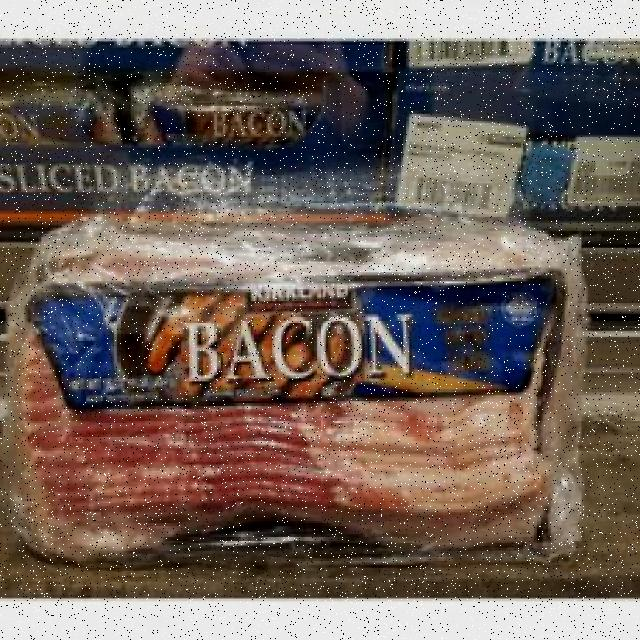Bacon: (20, 178, 605, 580)
